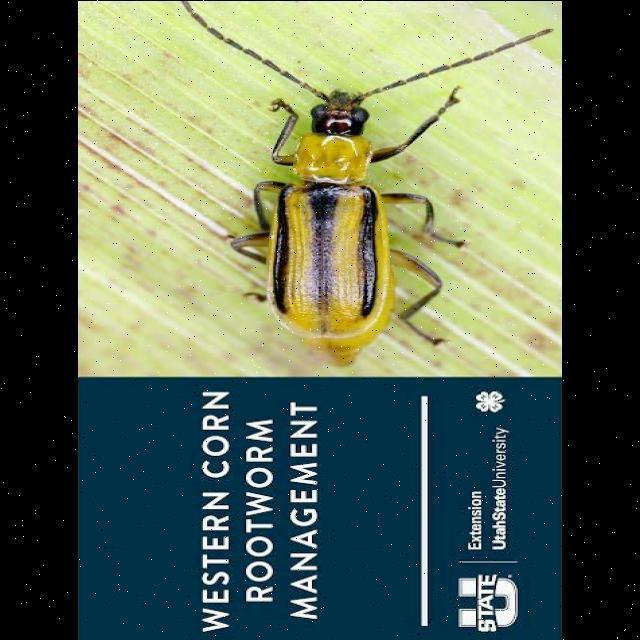trips: (218, 49, 474, 363)
